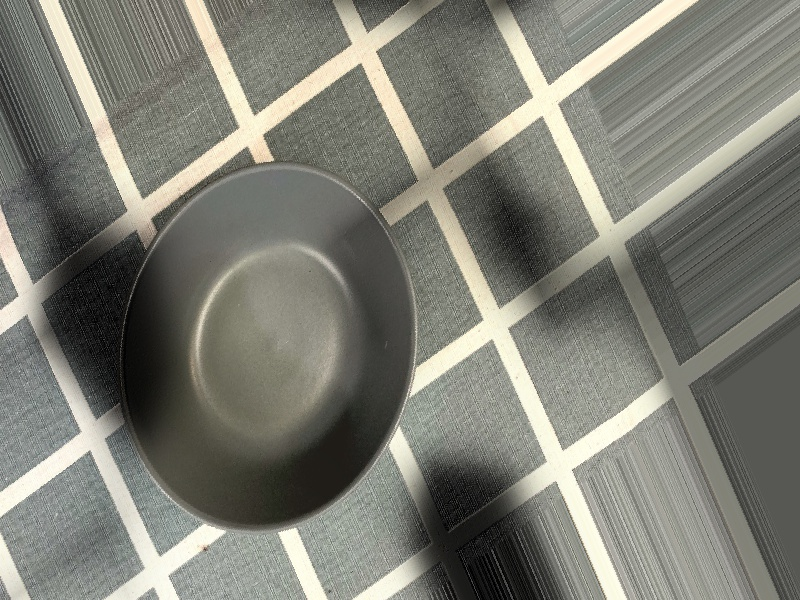bowl_big: (43, 73, 478, 599)
